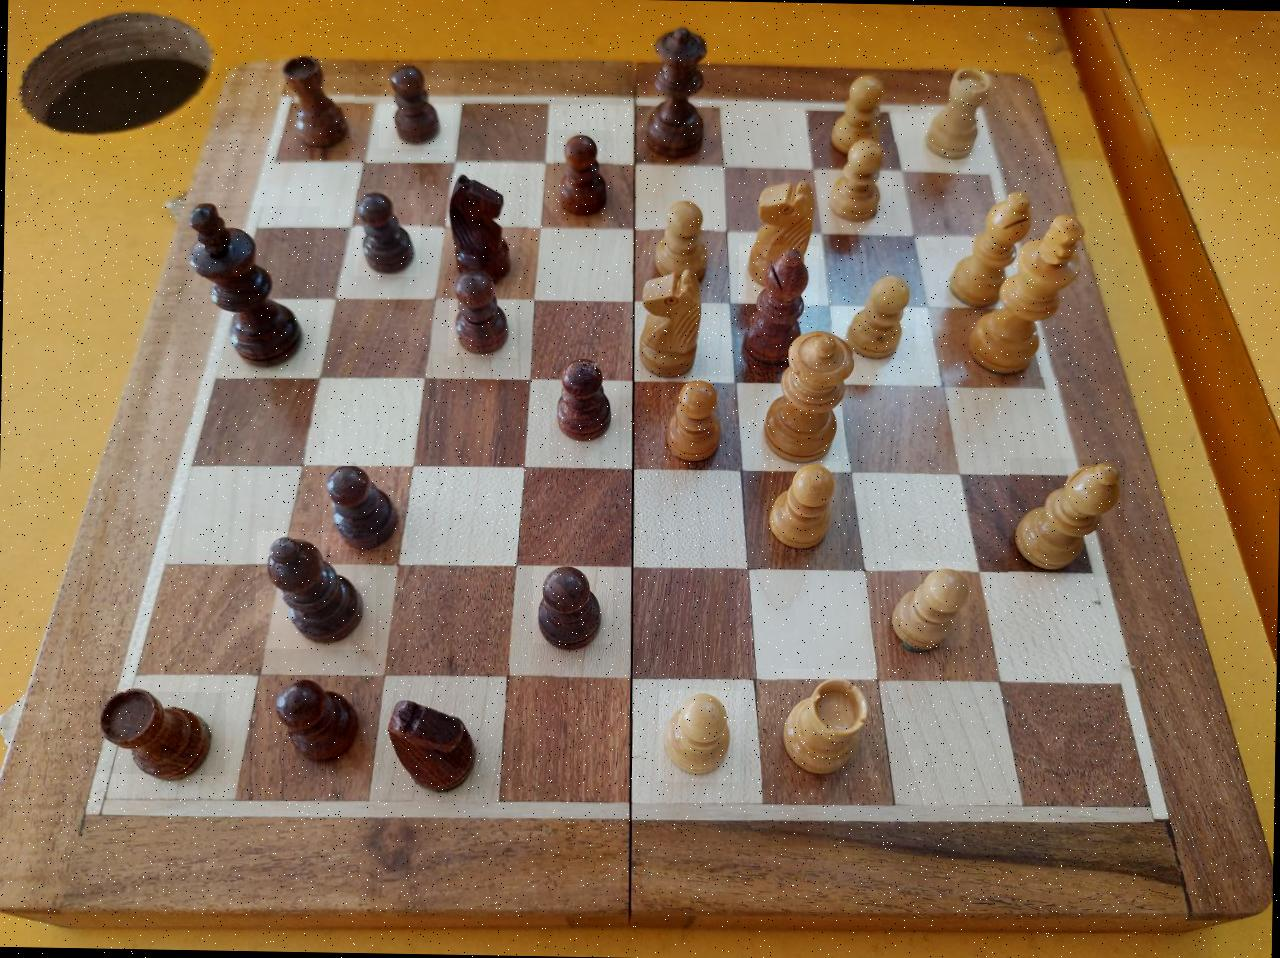black-camel: (256, 531, 377, 650), (737, 245, 819, 361)
black-elephant: (95, 691, 226, 776), (278, 55, 355, 152)
black-horse: (389, 692, 486, 796), (445, 173, 530, 283)
black-king: (175, 203, 320, 372)
black-pawn: (276, 675, 366, 762), (322, 466, 409, 551), (532, 564, 614, 644), (379, 62, 454, 150), (553, 356, 621, 447), (449, 277, 520, 358), (355, 190, 422, 278), (552, 130, 615, 221)
black-queen: (645, 18, 711, 160)
white-camel: (1008, 459, 1125, 579), (943, 185, 1032, 304)
white-elephant: (777, 669, 878, 779), (921, 60, 994, 163)
white-horse: (635, 274, 709, 379), (747, 175, 818, 280)
white-king: (968, 214, 1090, 378)
white-pawn: (658, 690, 741, 784), (764, 461, 842, 553), (660, 375, 735, 465), (847, 270, 917, 363), (901, 562, 970, 647), (829, 134, 893, 227), (648, 197, 714, 276), (832, 76, 899, 143)
white-queen: (762, 324, 869, 462)
